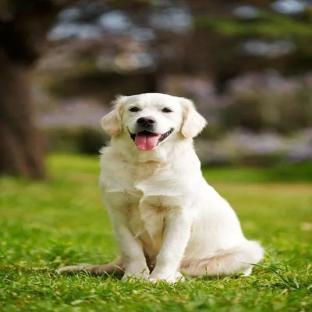Animal: (59, 93, 263, 282)
